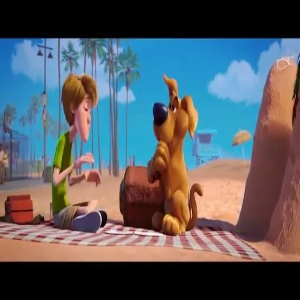Scooby: (144, 72, 206, 150)
Shagy: (54, 68, 104, 147)
